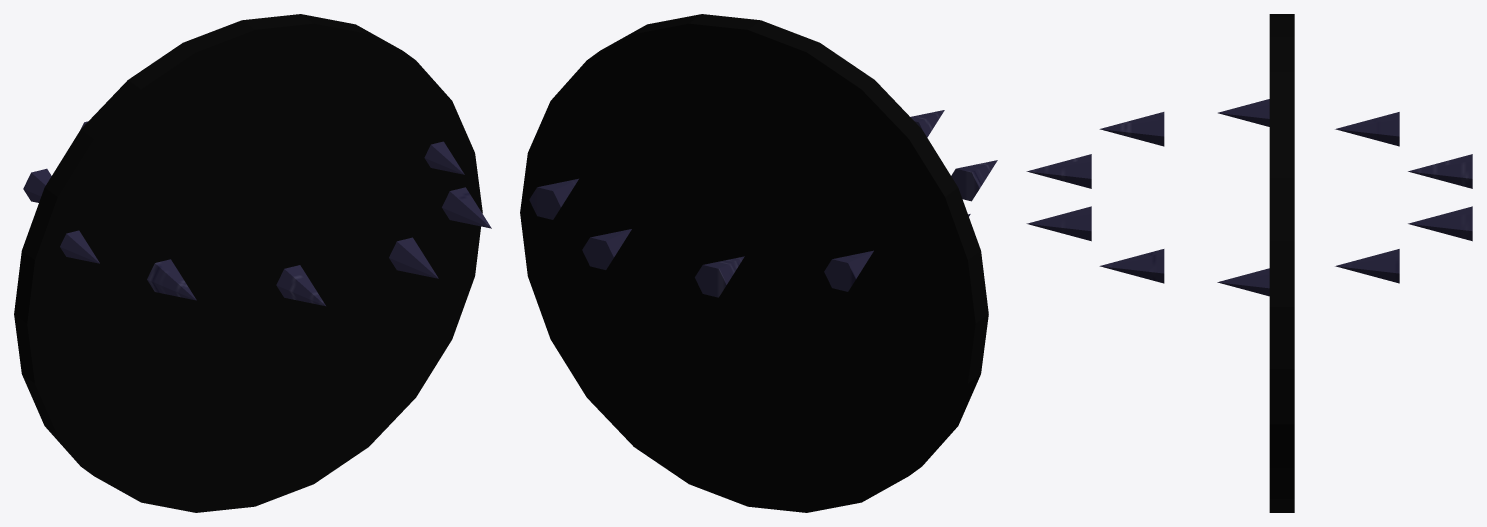
The model's file is ritual_dais.obj.
The picture shows the model from 3 angles, left to right: view 1: azimuth 30°, elevation 25°; view 2: azimuth 150°, elevation 25°; view 3: azimuth 270°, elevation 25°; orthographic projection. The views are drawn at different scales.
Size of the model in its own units: 10 by 10 by 8.91.
1 material, 1 textured.
